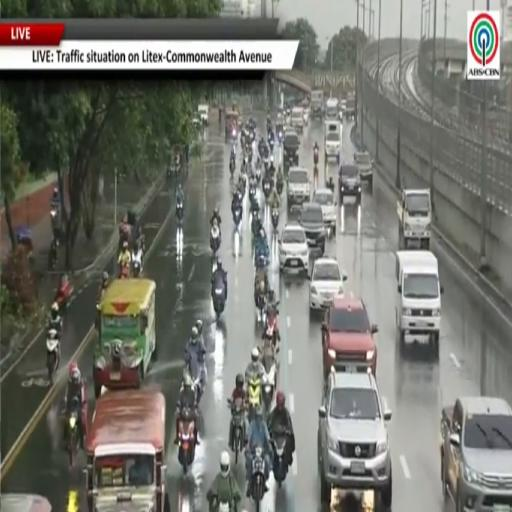car: (318, 370, 392, 509), (322, 294, 378, 377), (309, 258, 347, 311), (299, 202, 326, 255), (279, 224, 308, 273), (287, 167, 310, 210), (312, 188, 336, 228), (339, 164, 361, 204), (283, 127, 299, 170), (354, 151, 373, 187), (197, 103, 209, 125)
jeepney: (86, 389, 169, 511), (93, 279, 157, 397), (0, 493, 52, 511), (225, 110, 238, 141)
motorcycle: (178, 409, 196, 473), (262, 344, 276, 418), (228, 399, 244, 463), (272, 426, 288, 487), (251, 446, 265, 511), (68, 398, 81, 467), (186, 359, 205, 404), (46, 329, 59, 383), (247, 375, 261, 422), (55, 281, 73, 317), (265, 309, 277, 345), (256, 281, 266, 322), (50, 207, 62, 239), (213, 285, 224, 318), (48, 238, 58, 270), (193, 375, 203, 405), (210, 226, 220, 255), (251, 207, 260, 237), (132, 252, 142, 278), (176, 201, 184, 227), (251, 196, 260, 219), (271, 208, 279, 232), (268, 157, 276, 180), (233, 208, 241, 231), (249, 186, 257, 204), (263, 181, 271, 199), (258, 142, 266, 158), (119, 264, 128, 278), (241, 173, 247, 193), (276, 181, 283, 196), (255, 168, 261, 183), (269, 136, 274, 153), (230, 159, 235, 175), (264, 156, 269, 172), (314, 149, 318, 165), (278, 132, 282, 145)
truck: (441, 396, 511, 511), (397, 188, 431, 249), (310, 90, 323, 119), (345, 92, 356, 119)
